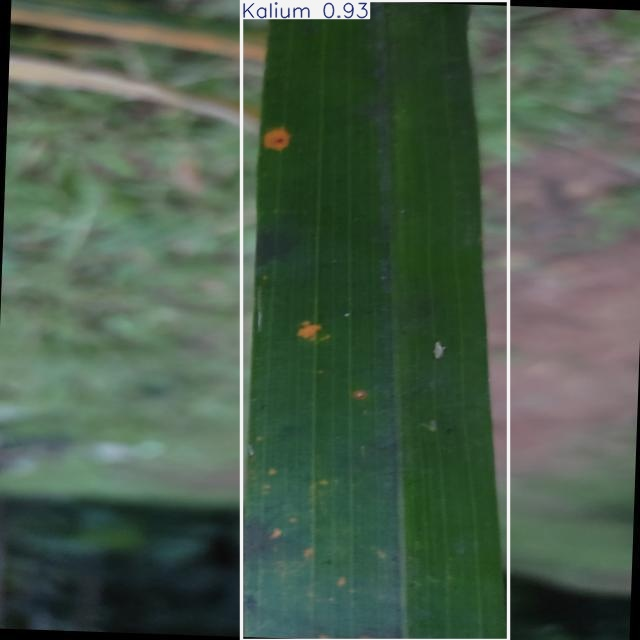Kalium: (241, 1, 509, 640)
